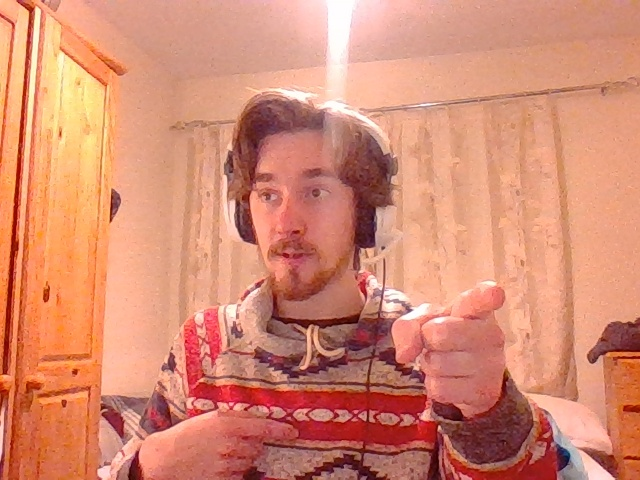you: (389, 282, 508, 418)
